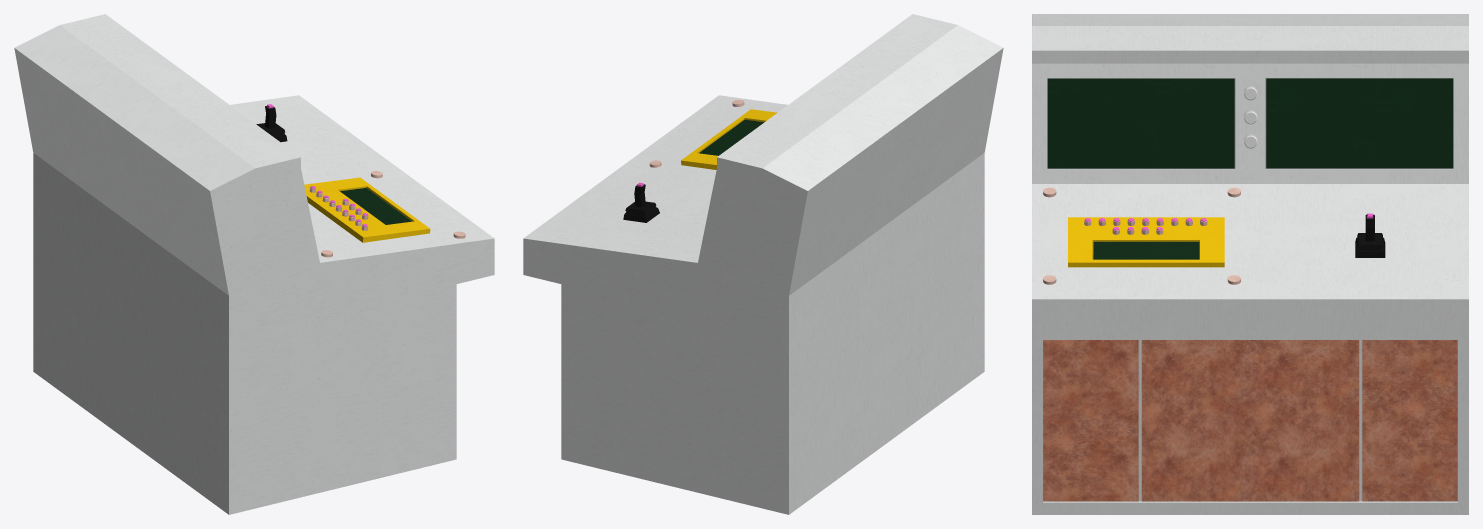
The model's file is Control Panel_Middle.fbx.
3 views of the same model, side by side, from view 1: azimuth 30°, elevation 25°; view 2: azimuth 150°, elevation 25°; view 3: azimuth 270°, elevation 25° (orthographic). The views are drawn at different scales.
Parts seen in each view (by area): view 1: ControlPanelMiddleModel; view 2: ControlPanelMiddleModel; view 3: ControlPanelMiddleModel.
Boxes of the visible parts, x1,y1,x2,y2 form: ControlPanelMiddleModel: [14, 14, 494, 514]; ControlPanelMiddleModel: [523, 14, 1003, 514]; ControlPanelMiddleModel: [1032, 14, 1468, 514].
Size of the model in its own units: 120 by 137 by 143.
